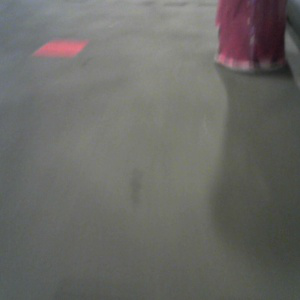Right: (213, 1, 287, 75)
